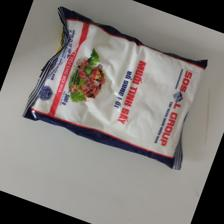Salt: (22, 6, 212, 172)
